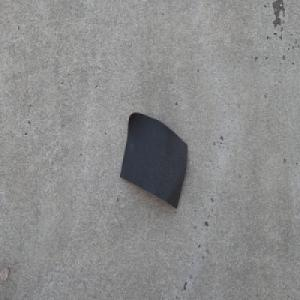PaintChip: (119, 109, 188, 209)
